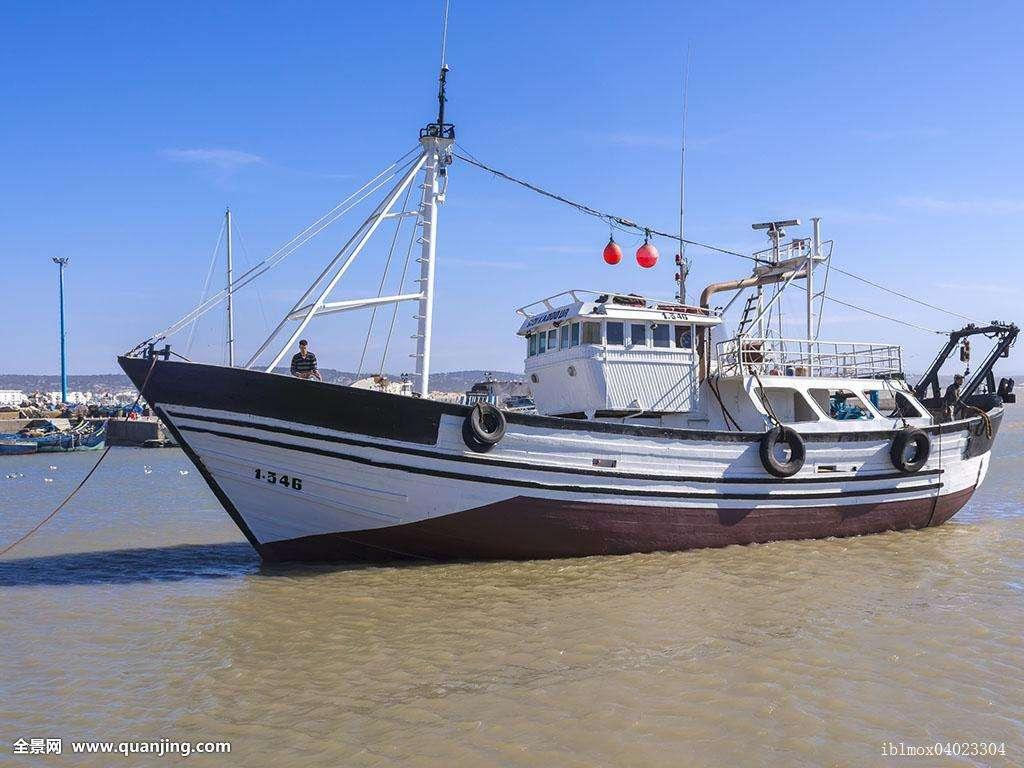otherboat: (110, 160, 1024, 567)
